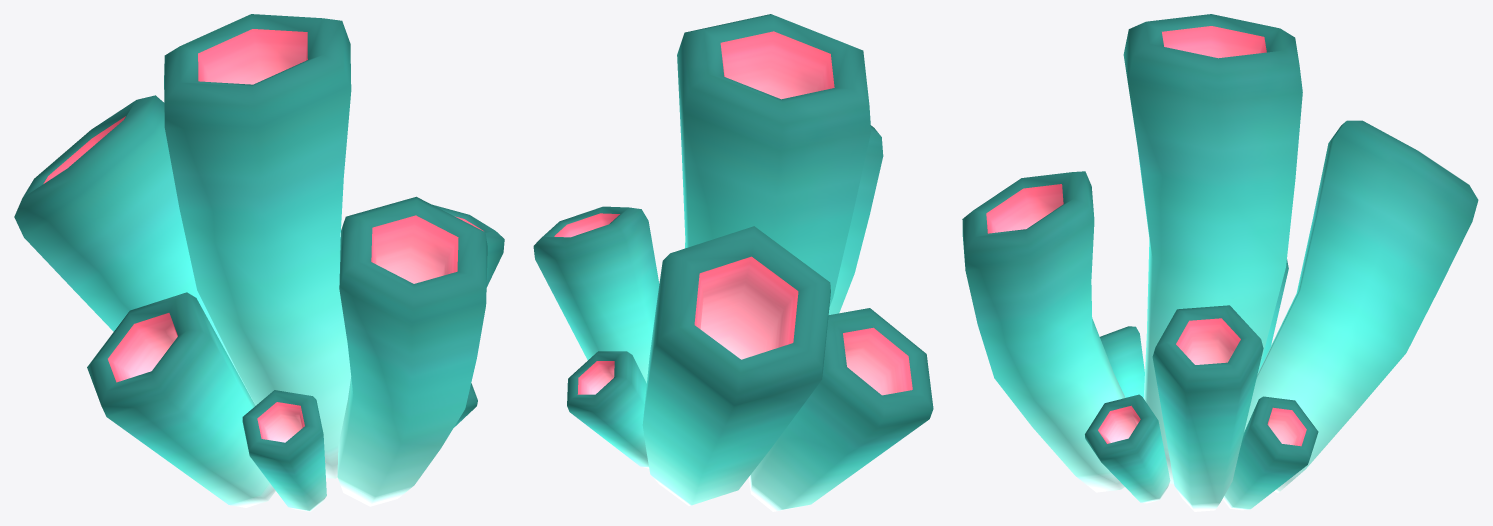
Rendered from plant1-transformed.glb.
The picture shows the model from 3 angles, left to right: view 1: azimuth 30°, elevation 25°; view 2: azimuth 150°, elevation 25°; view 3: azimuth 270°, elevation 25°; orthographic projection. The views are drawn at different scales.
Visible parts, largest first — view 1: w_pl17.003; view 2: w_pl17.003; view 3: w_pl17.003.
Boxes of the visible parts, <box> form: w_pl17.003: <box>14,14,504,511</box>; w_pl17.003: <box>533,14,933,511</box>; w_pl17.003: <box>962,14,1478,511</box>.
Size of the model in its own units: 23.26 by 26.38 by 27.12.
Materials: 1 (1 with a texture image).
